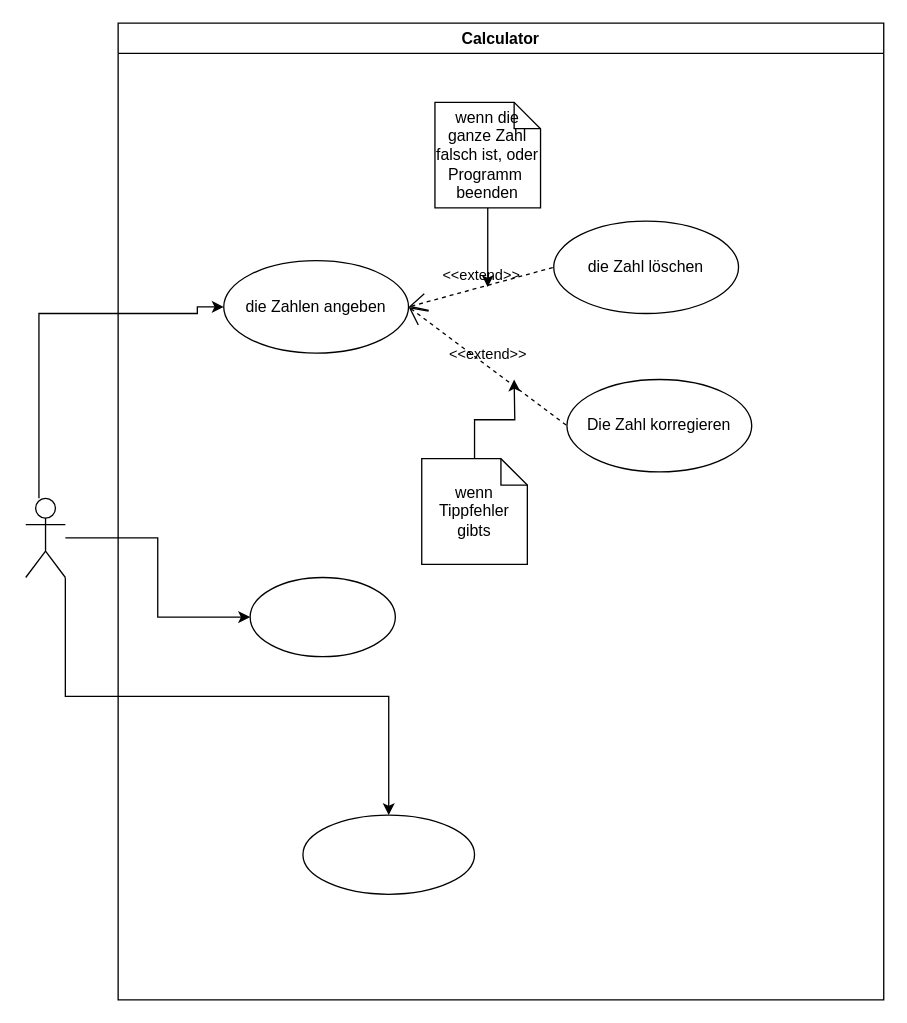
The diagram is 907 pixels wide and 1023 high, and some of its shapes have lost their labels. The box of each missing label's shape, as (x1, y1, x2, y2) in pixels:
Arithmetische Operation wählen: (249, 576, 395, 657)
das Ergebnis bekommen: (302, 814, 475, 894)
Kunde: (24, 497, 65, 578)
